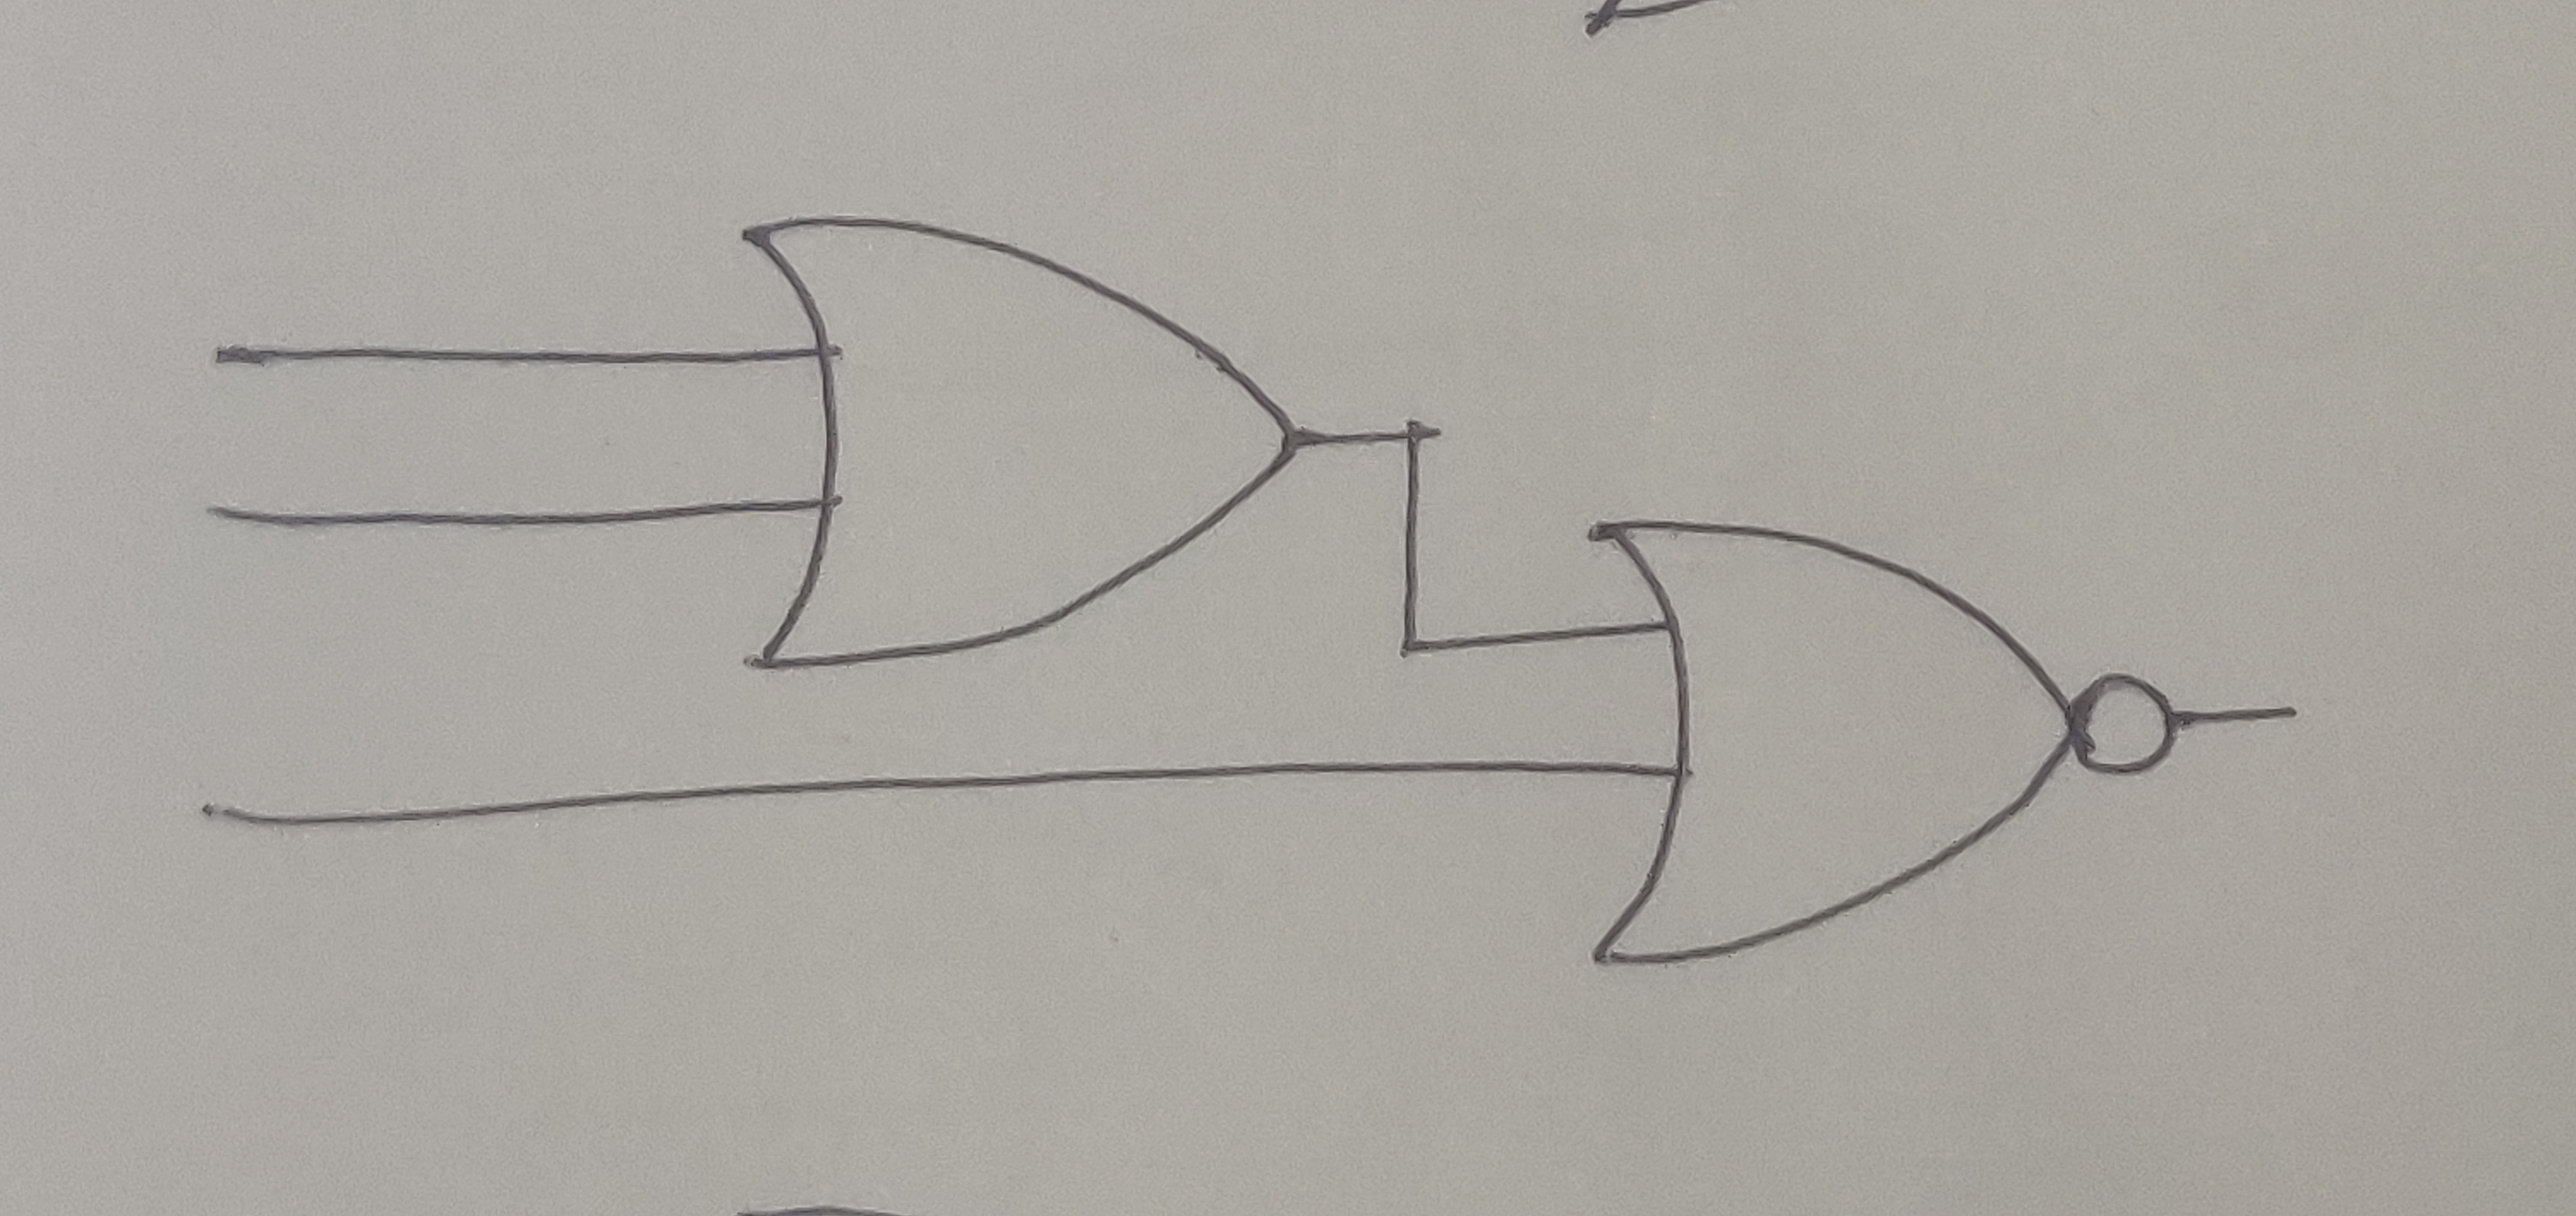not: (2067, 667, 2182, 785)
or: (728, 210, 1301, 677), (1577, 516, 2086, 970)
